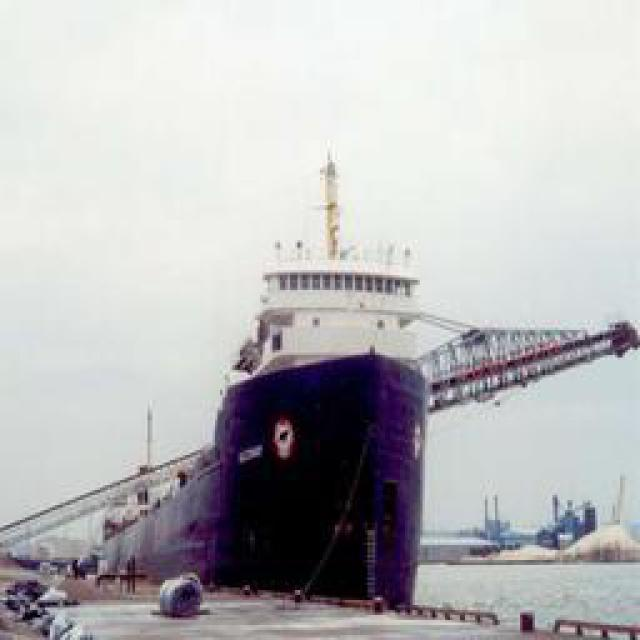Ship: (96, 126, 460, 614)
